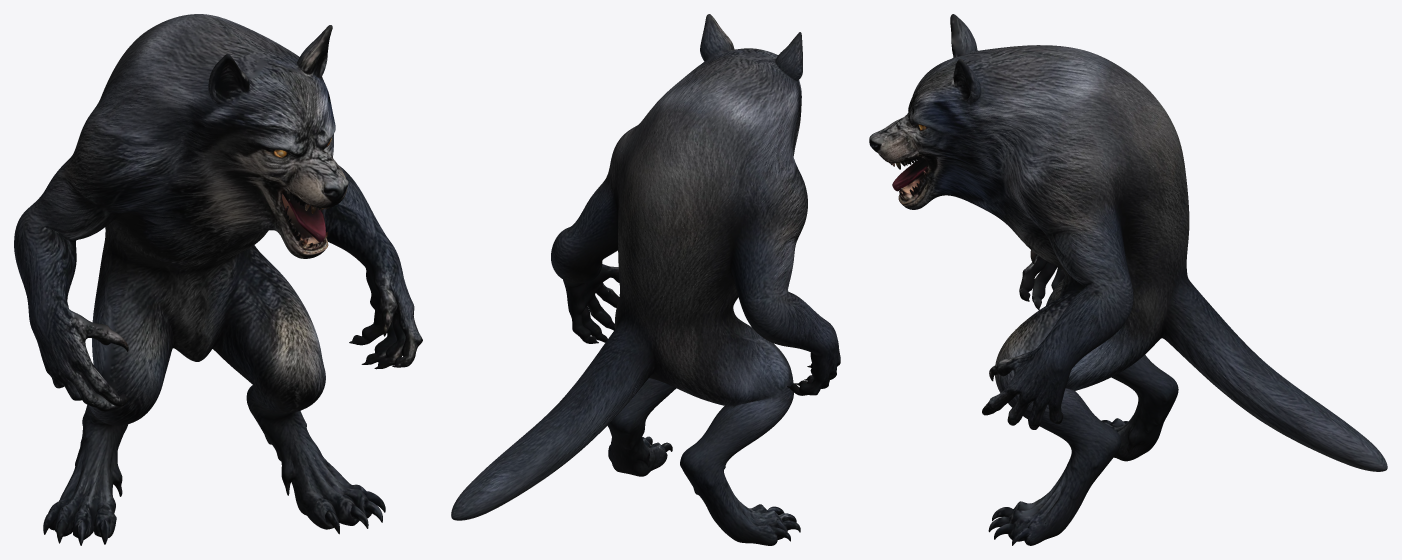
The model's file is werewolf.glb.
The picture shows the model from 3 angles, left to right: view 1: azimuth 30°, elevation 25°; view 2: azimuth 150°, elevation 25°; view 3: azimuth 270°, elevation 25°; orthographic projection. The views are drawn at different scales.
Parts seen in each view (by area): view 1: material; view 2: material; view 3: material.
Part boxes in pixels (x1,y1,x2,y2): material: (14, 14, 422, 545); material: (451, 14, 840, 545); material: (869, 14, 1387, 545).
Size of the model in its own units: 0.6174 by 0.9122 by 0.9399.
Materials: 1 (1 with a texture image).
